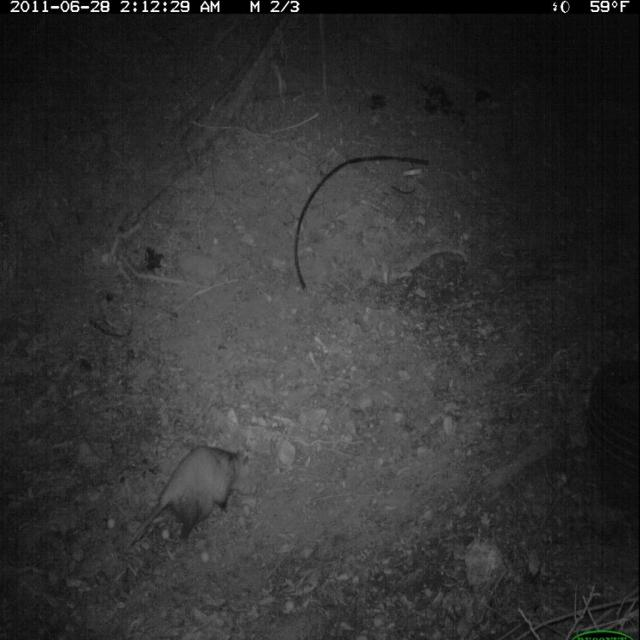opossum: (118, 440, 273, 563)
